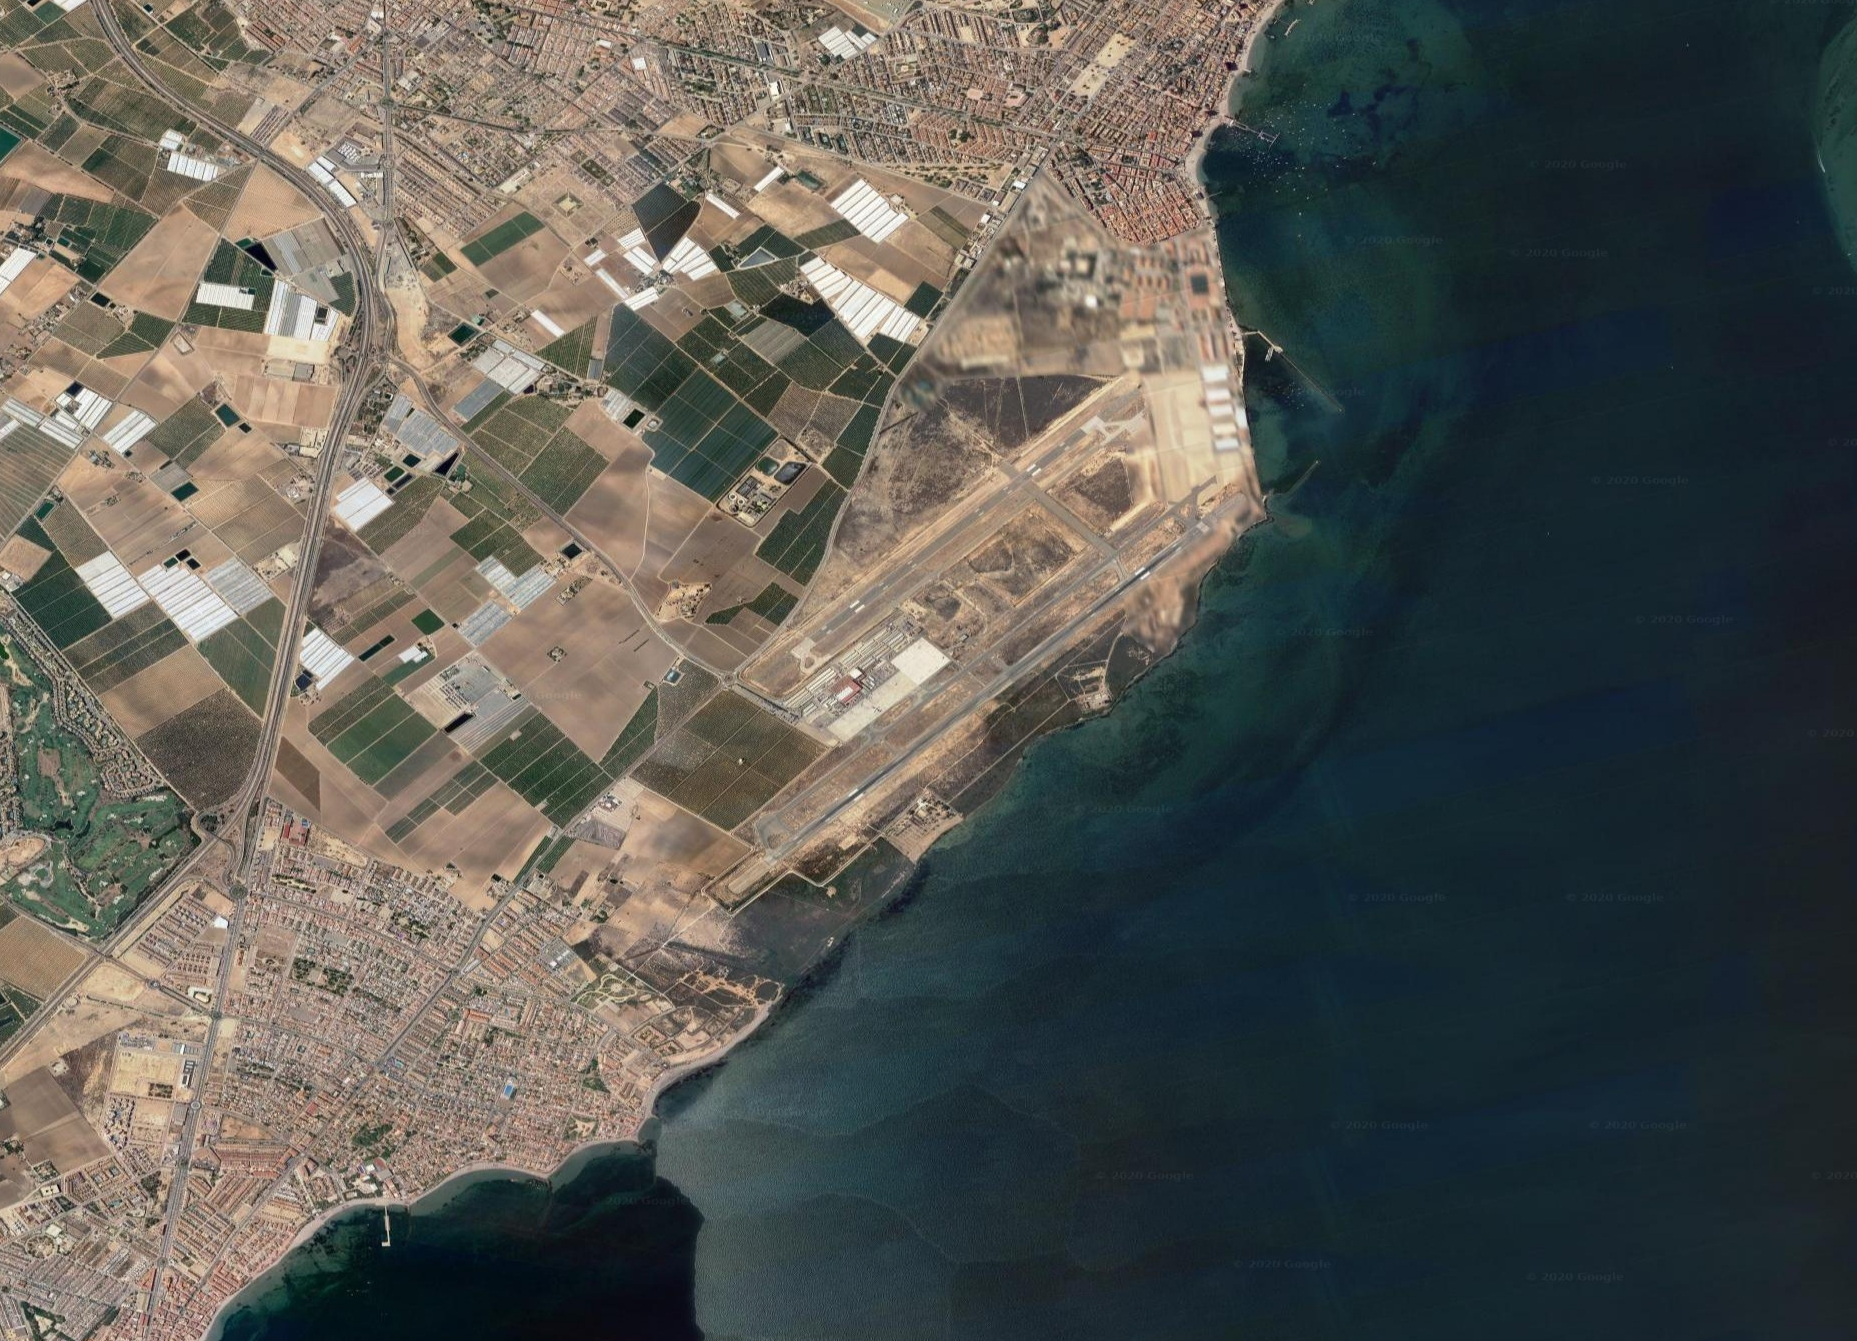airport: (722, 366, 1251, 898)
motorway: (94, 1, 187, 110), (76, 878, 173, 968), (161, 784, 251, 881), (1, 970, 88, 1066), (336, 234, 395, 371), (244, 645, 303, 780), (268, 509, 327, 645), (307, 372, 366, 508), (182, 102, 283, 166), (280, 159, 349, 238), (388, 355, 456, 425), (590, 546, 657, 617), (453, 425, 519, 497), (519, 489, 585, 559), (643, 617, 709, 688)
